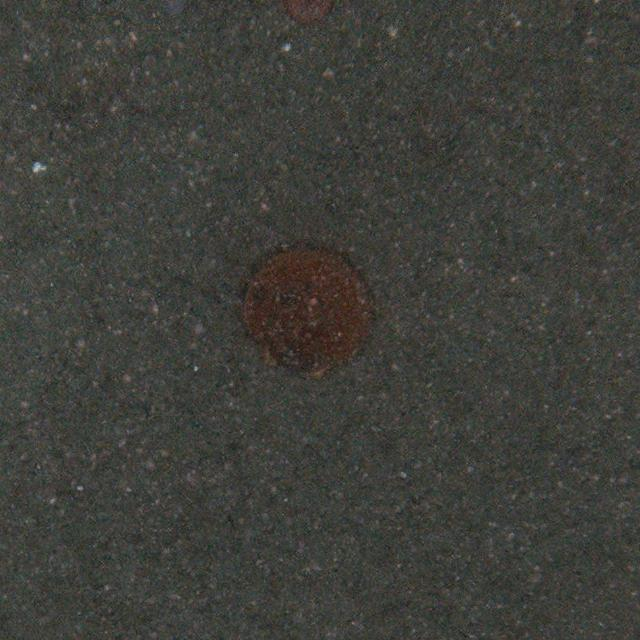scallop: (237, 241, 378, 380)
